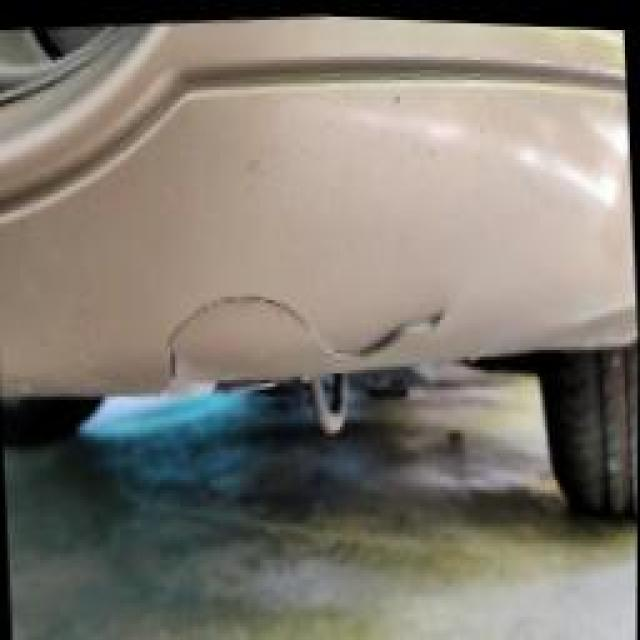Bumper: (70, 237, 473, 436)
